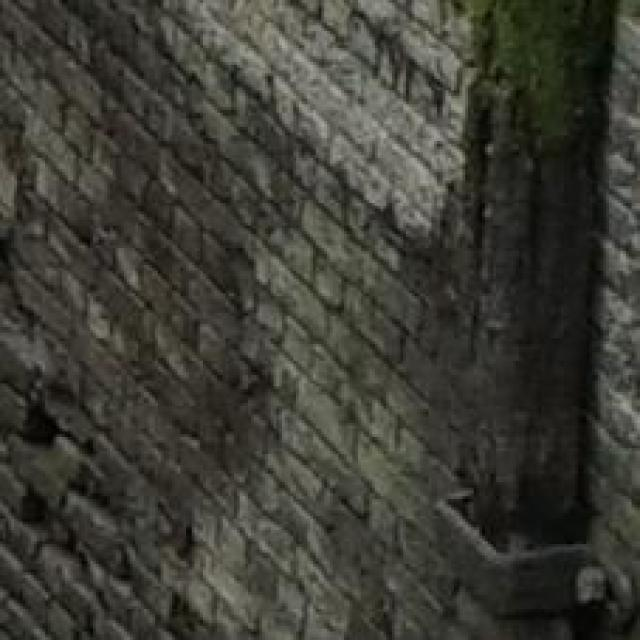Crack: (377, 0, 640, 640)
